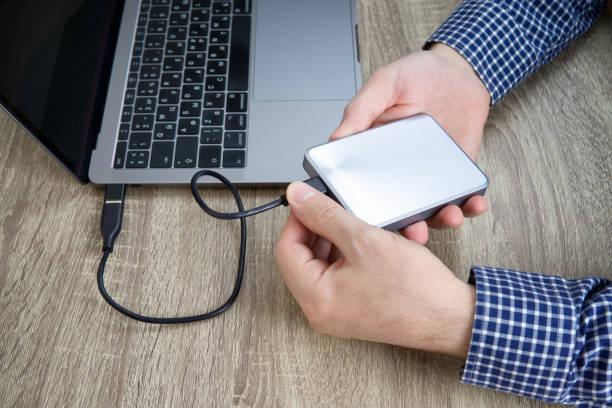HDD: (302, 113, 489, 234)
